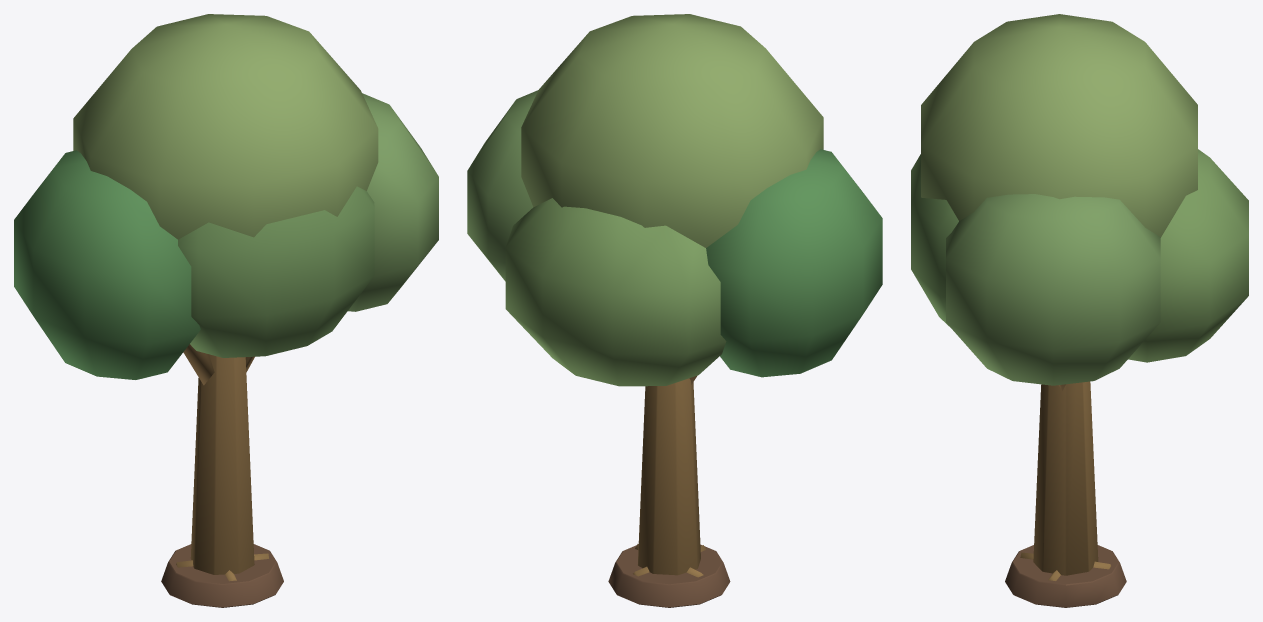
The model's file is tree_stage1_low.glb.
The picture shows the model from 3 angles, left to right: view 1: azimuth 30°, elevation 25°; view 2: azimuth 150°, elevation 25°; view 3: azimuth 270°, elevation 25°; orthographic projection.
Size of the model in its own units: 0.7187 by 1 by 0.5514.
